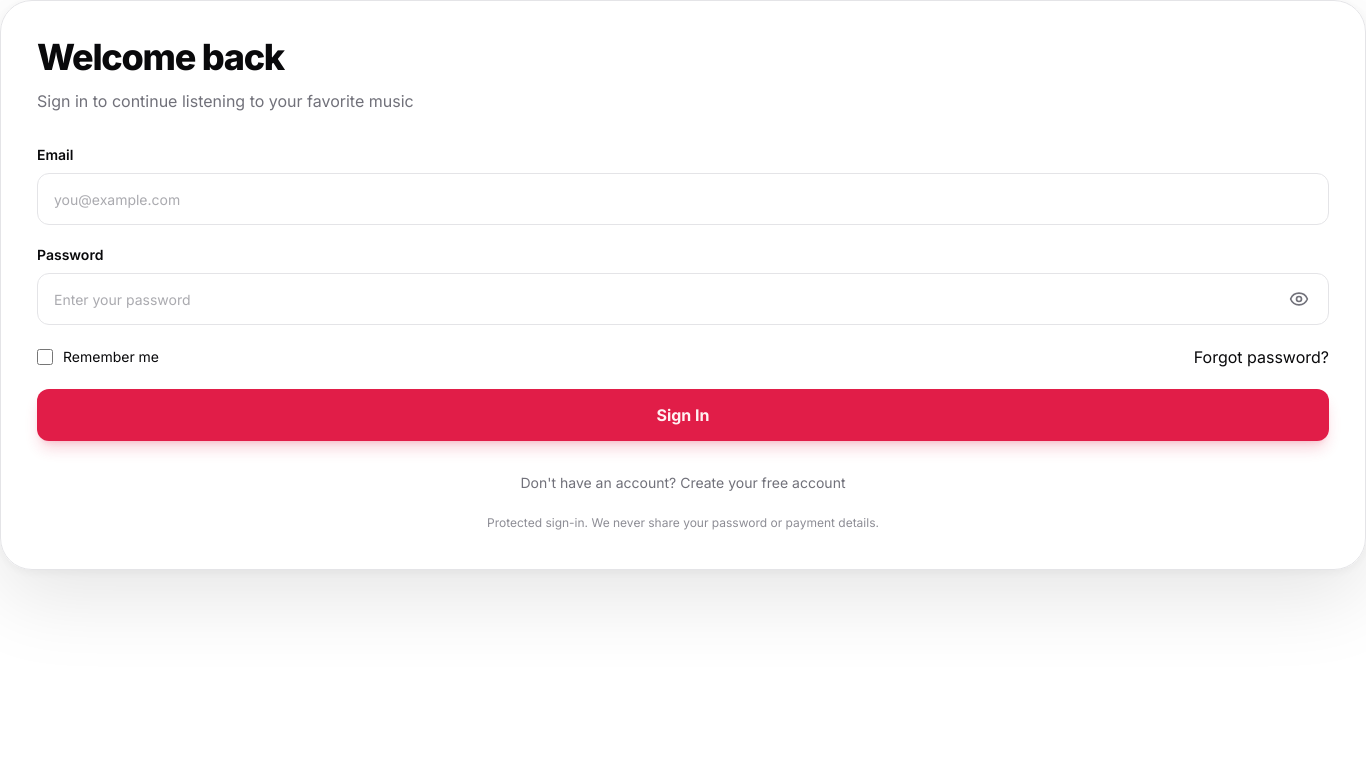
Scenario: LoginPage › shows a user-friendly message for CredentialsSignin
Type "test@test.com" into the field labelled "Email" at (683, 199), box [37, 173, 1329, 225]
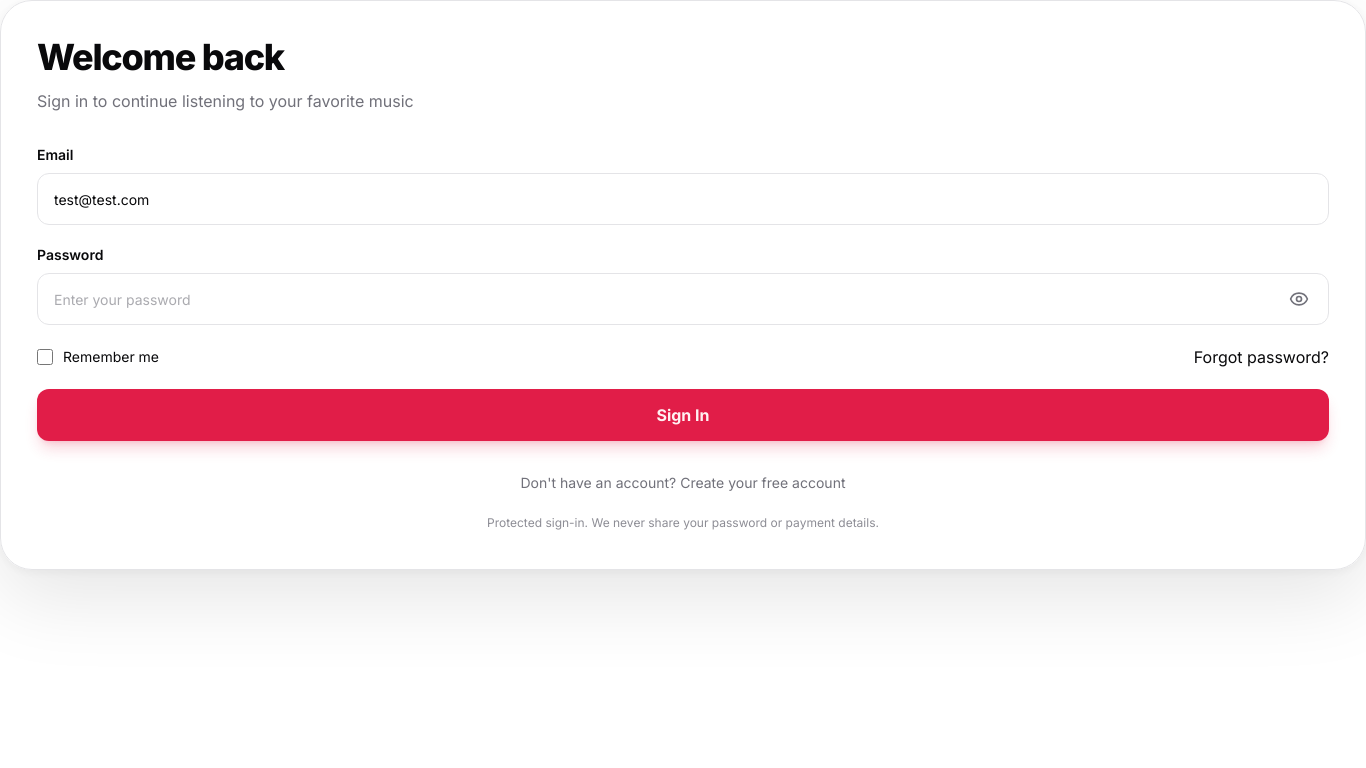
Type "wrong" into the password field labelled "Password" at (683, 299), box [37, 273, 1329, 325]
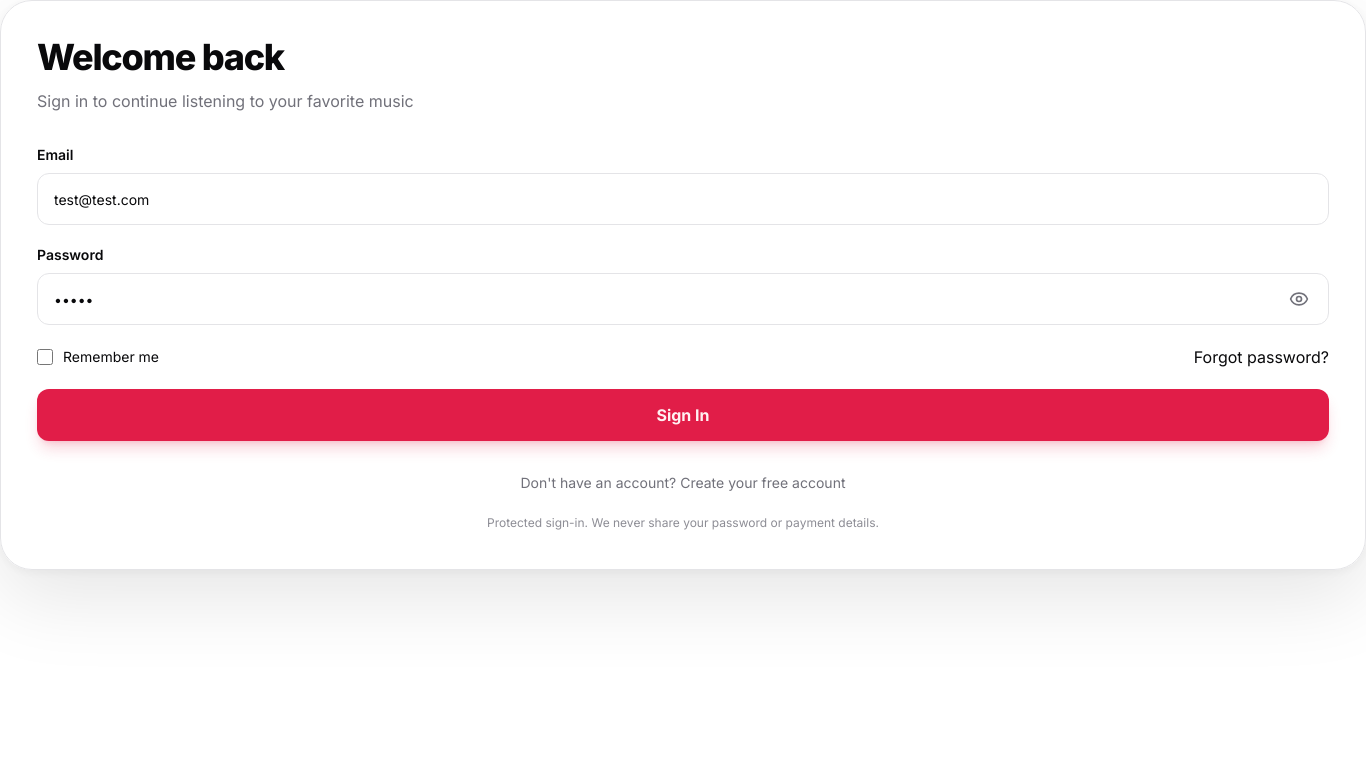
Click the button "Sign In" at (683, 415), box [37, 389, 1329, 441]
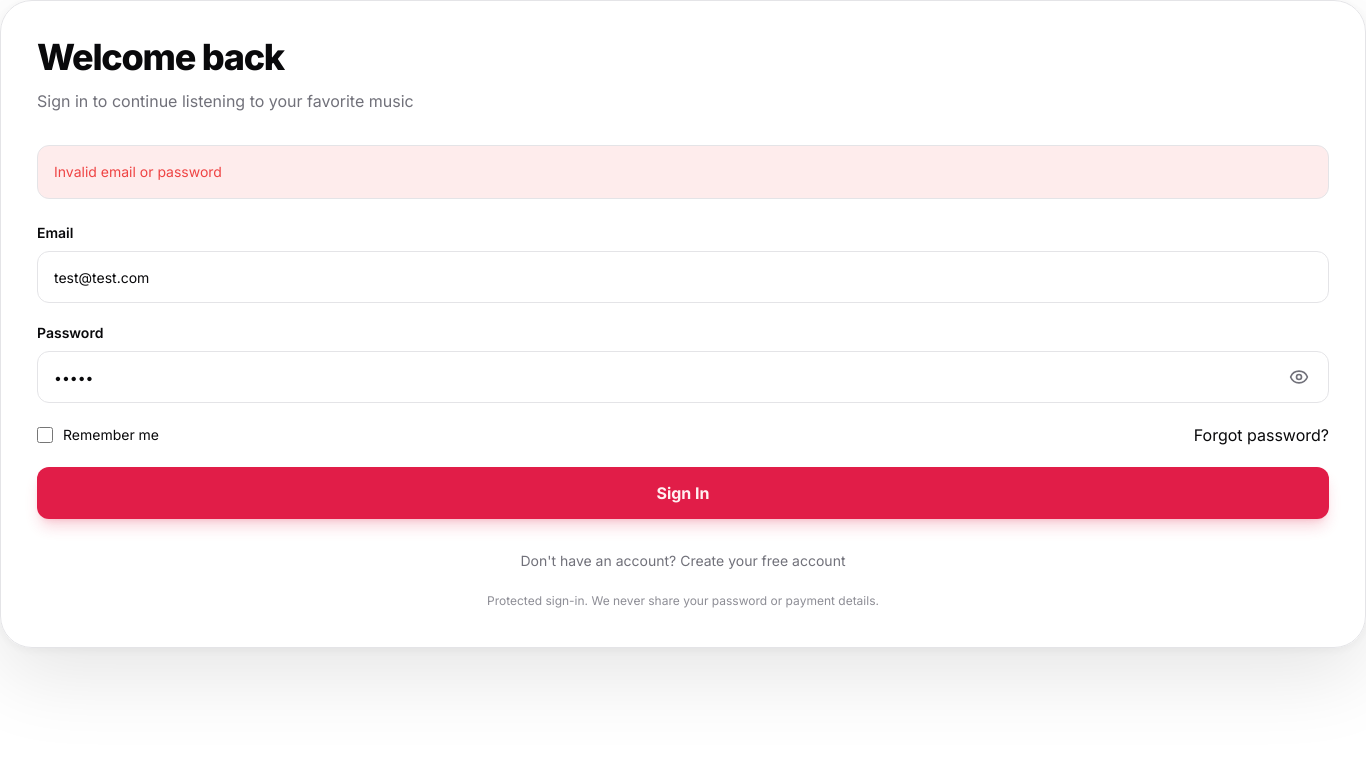
Result: the text "Invalid email or password" is shown at [37, 145, 1329, 199]
